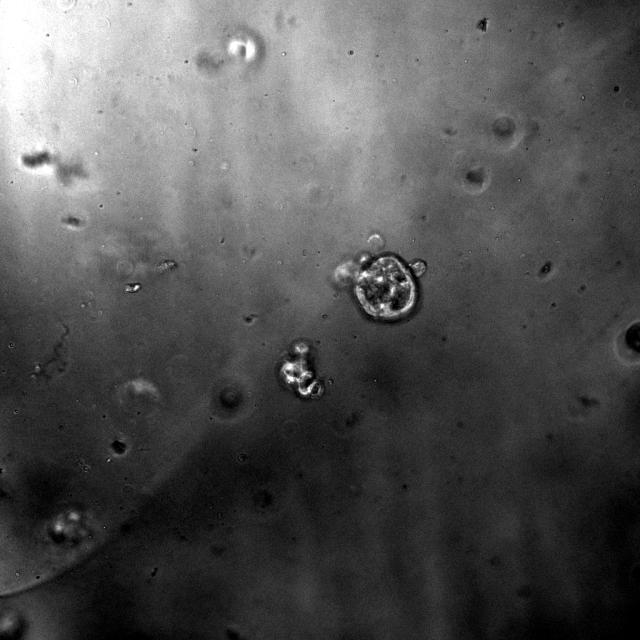organoid: (333, 251, 426, 322), (278, 341, 323, 398), (48, 508, 90, 545), (216, 383, 243, 416), (492, 115, 516, 140), (625, 321, 639, 353), (465, 167, 486, 187), (111, 438, 128, 456)
